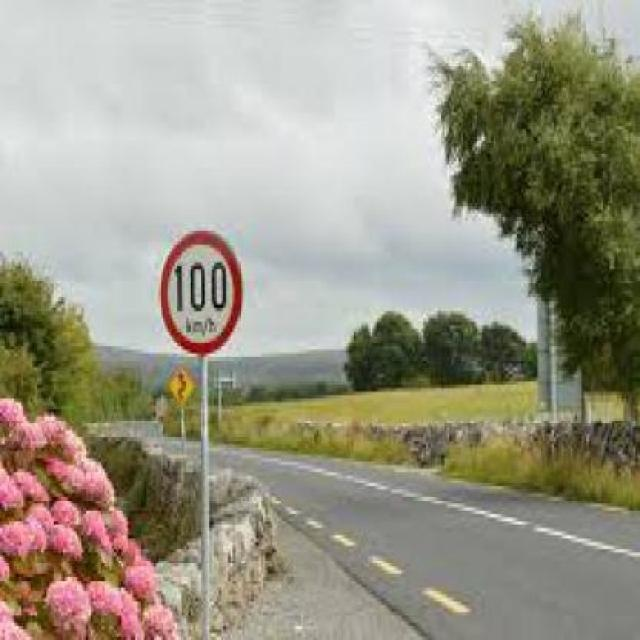forb_speed_over_100: (156, 228, 247, 357)
